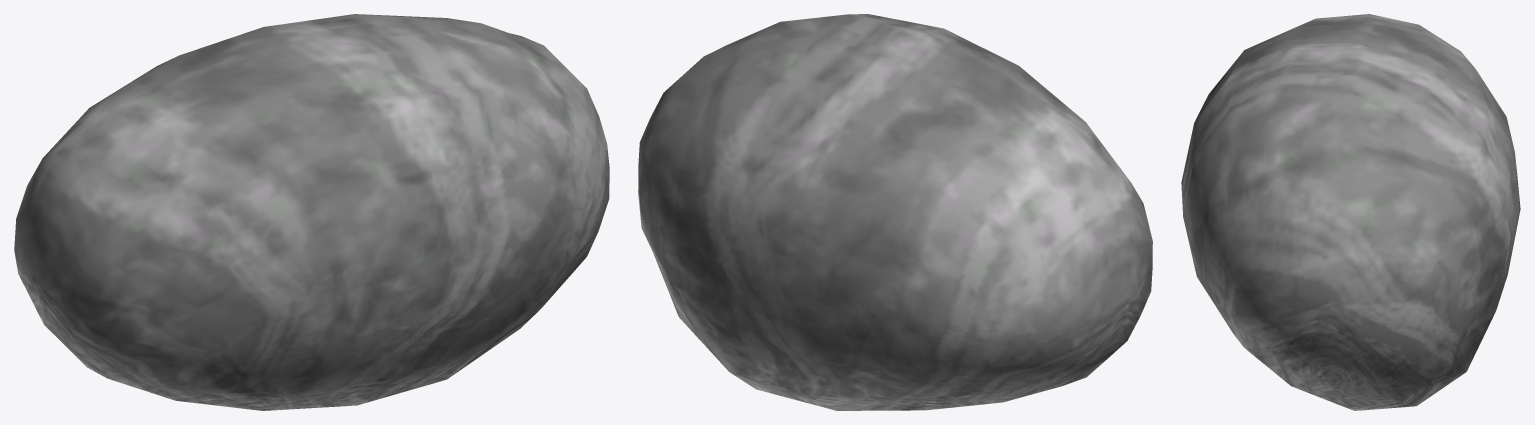
File: Potato_Item (1).fbx
3 renders of one model, left to right at view 1: azimuth 30°, elevation 25°; view 2: azimuth 150°, elevation 25°; view 3: azimuth 270°, elevation 25°, orthographic. The views are drawn at different scales.
Visible parts, largest first — view 1: Potato; view 2: Potato; view 3: Potato.
Part boxes in pixels (box(x1,y1,x2,y2)): Potato: box(14, 14, 609, 410); Potato: box(638, 14, 1152, 410); Potato: box(1181, 14, 1520, 410).
Size of the model in its own units: 0.6271 by 0.4146 by 0.4017.
